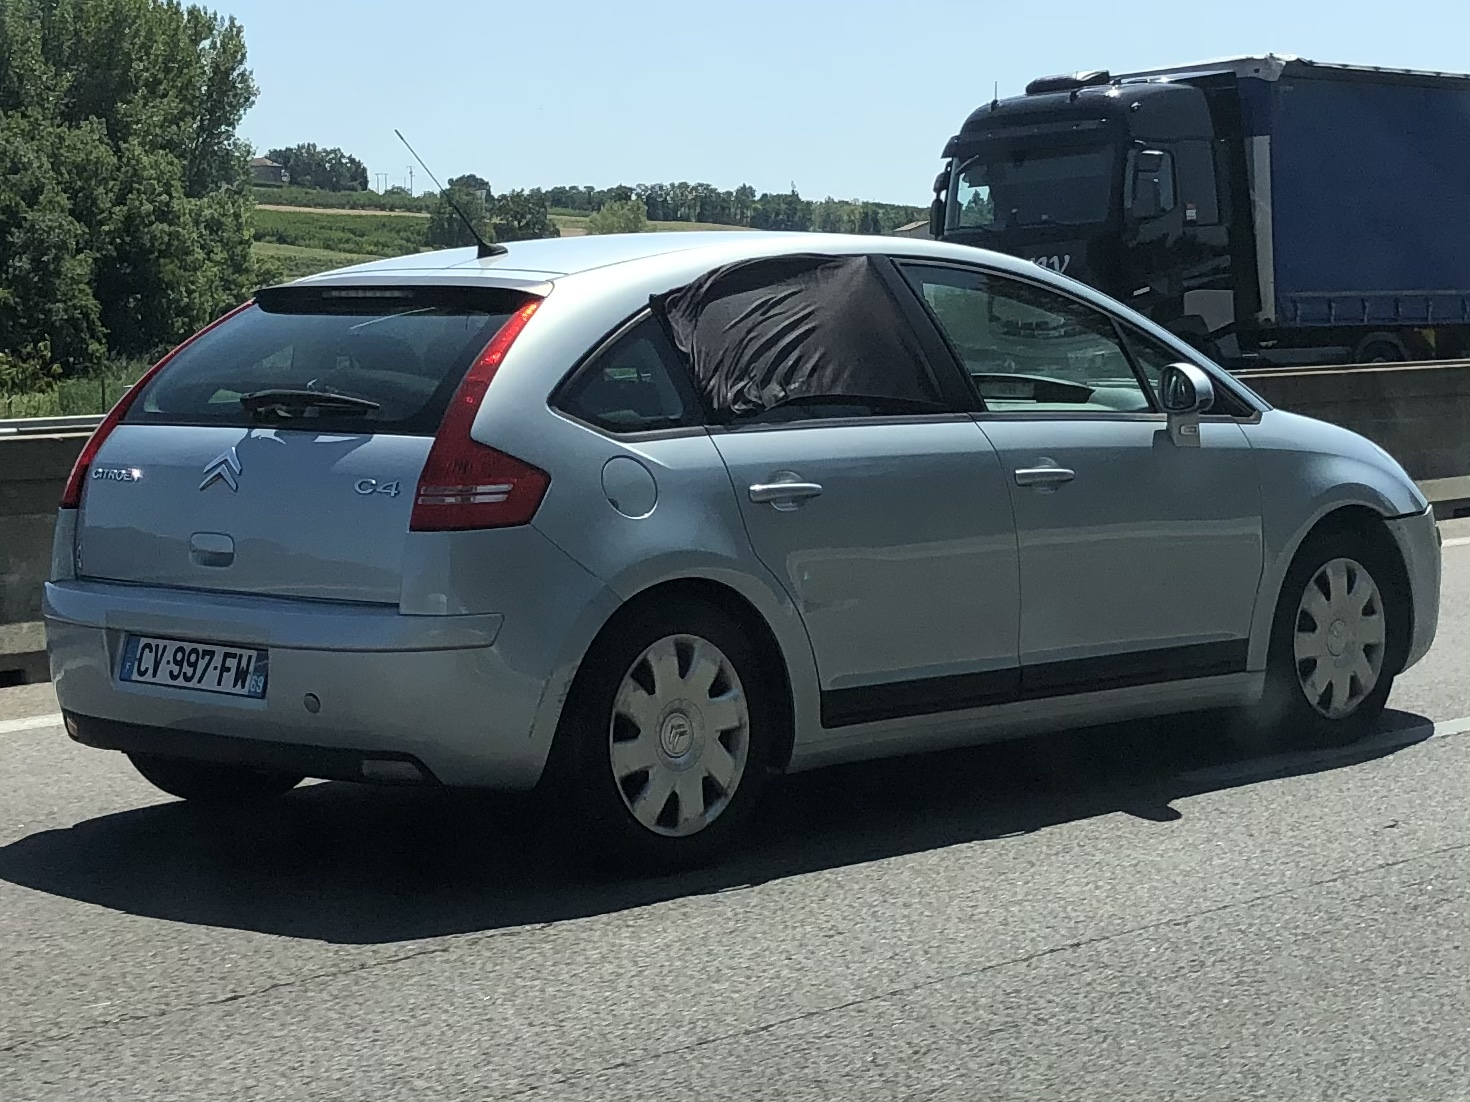licence plate: (116, 623, 277, 706)
